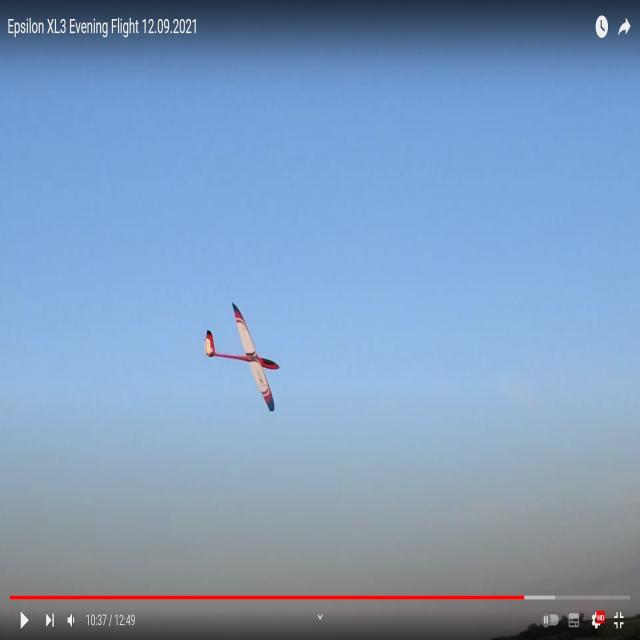iha: (239, 333, 246, 377)
